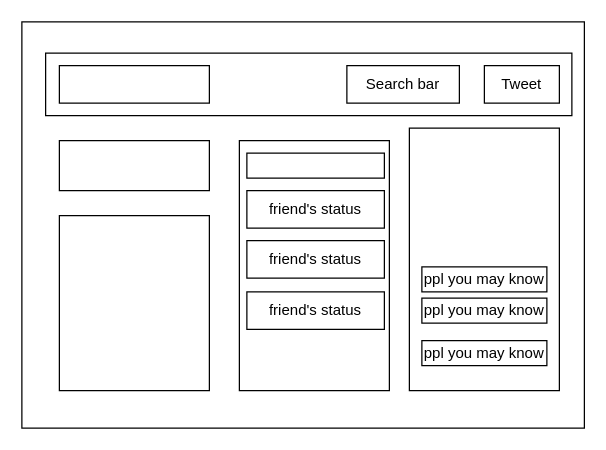
The diagram is 606 pixels wide and 450 high, and some of its shapes have lost their labels. The box of each missing label's shape, as (x1, y1, x2, y2) in pixels:
add new friens: (408, 127, 559, 391)
description: (58, 214, 209, 391)
post bar: (246, 152, 384, 178)
user info: (58, 139, 209, 191)
